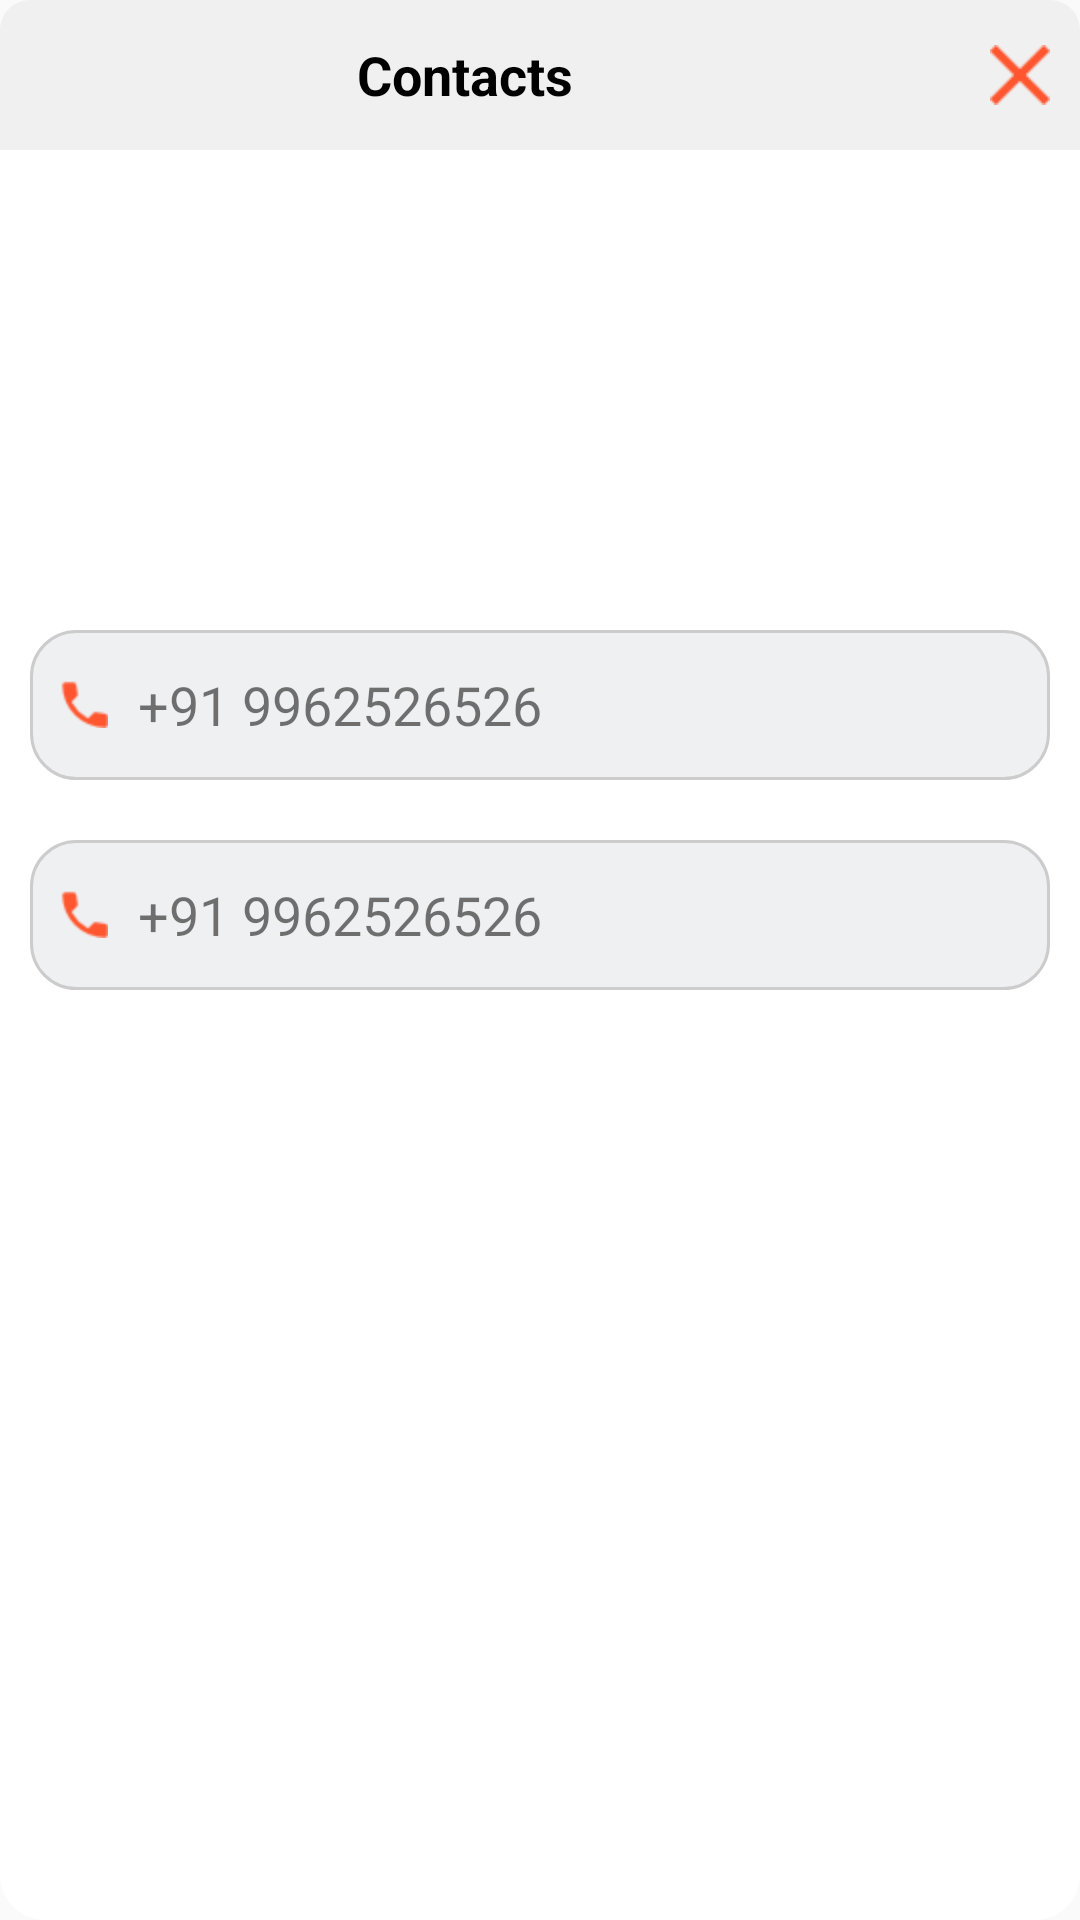

Icons on this 1080*1920 Android screen, each with its box as (x1, y1, x2, y2):
close: (990, 45, 1050, 105)
